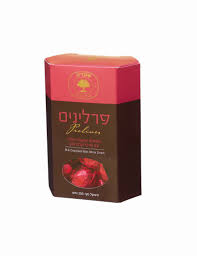Chocolate: (42, 49, 144, 216)
